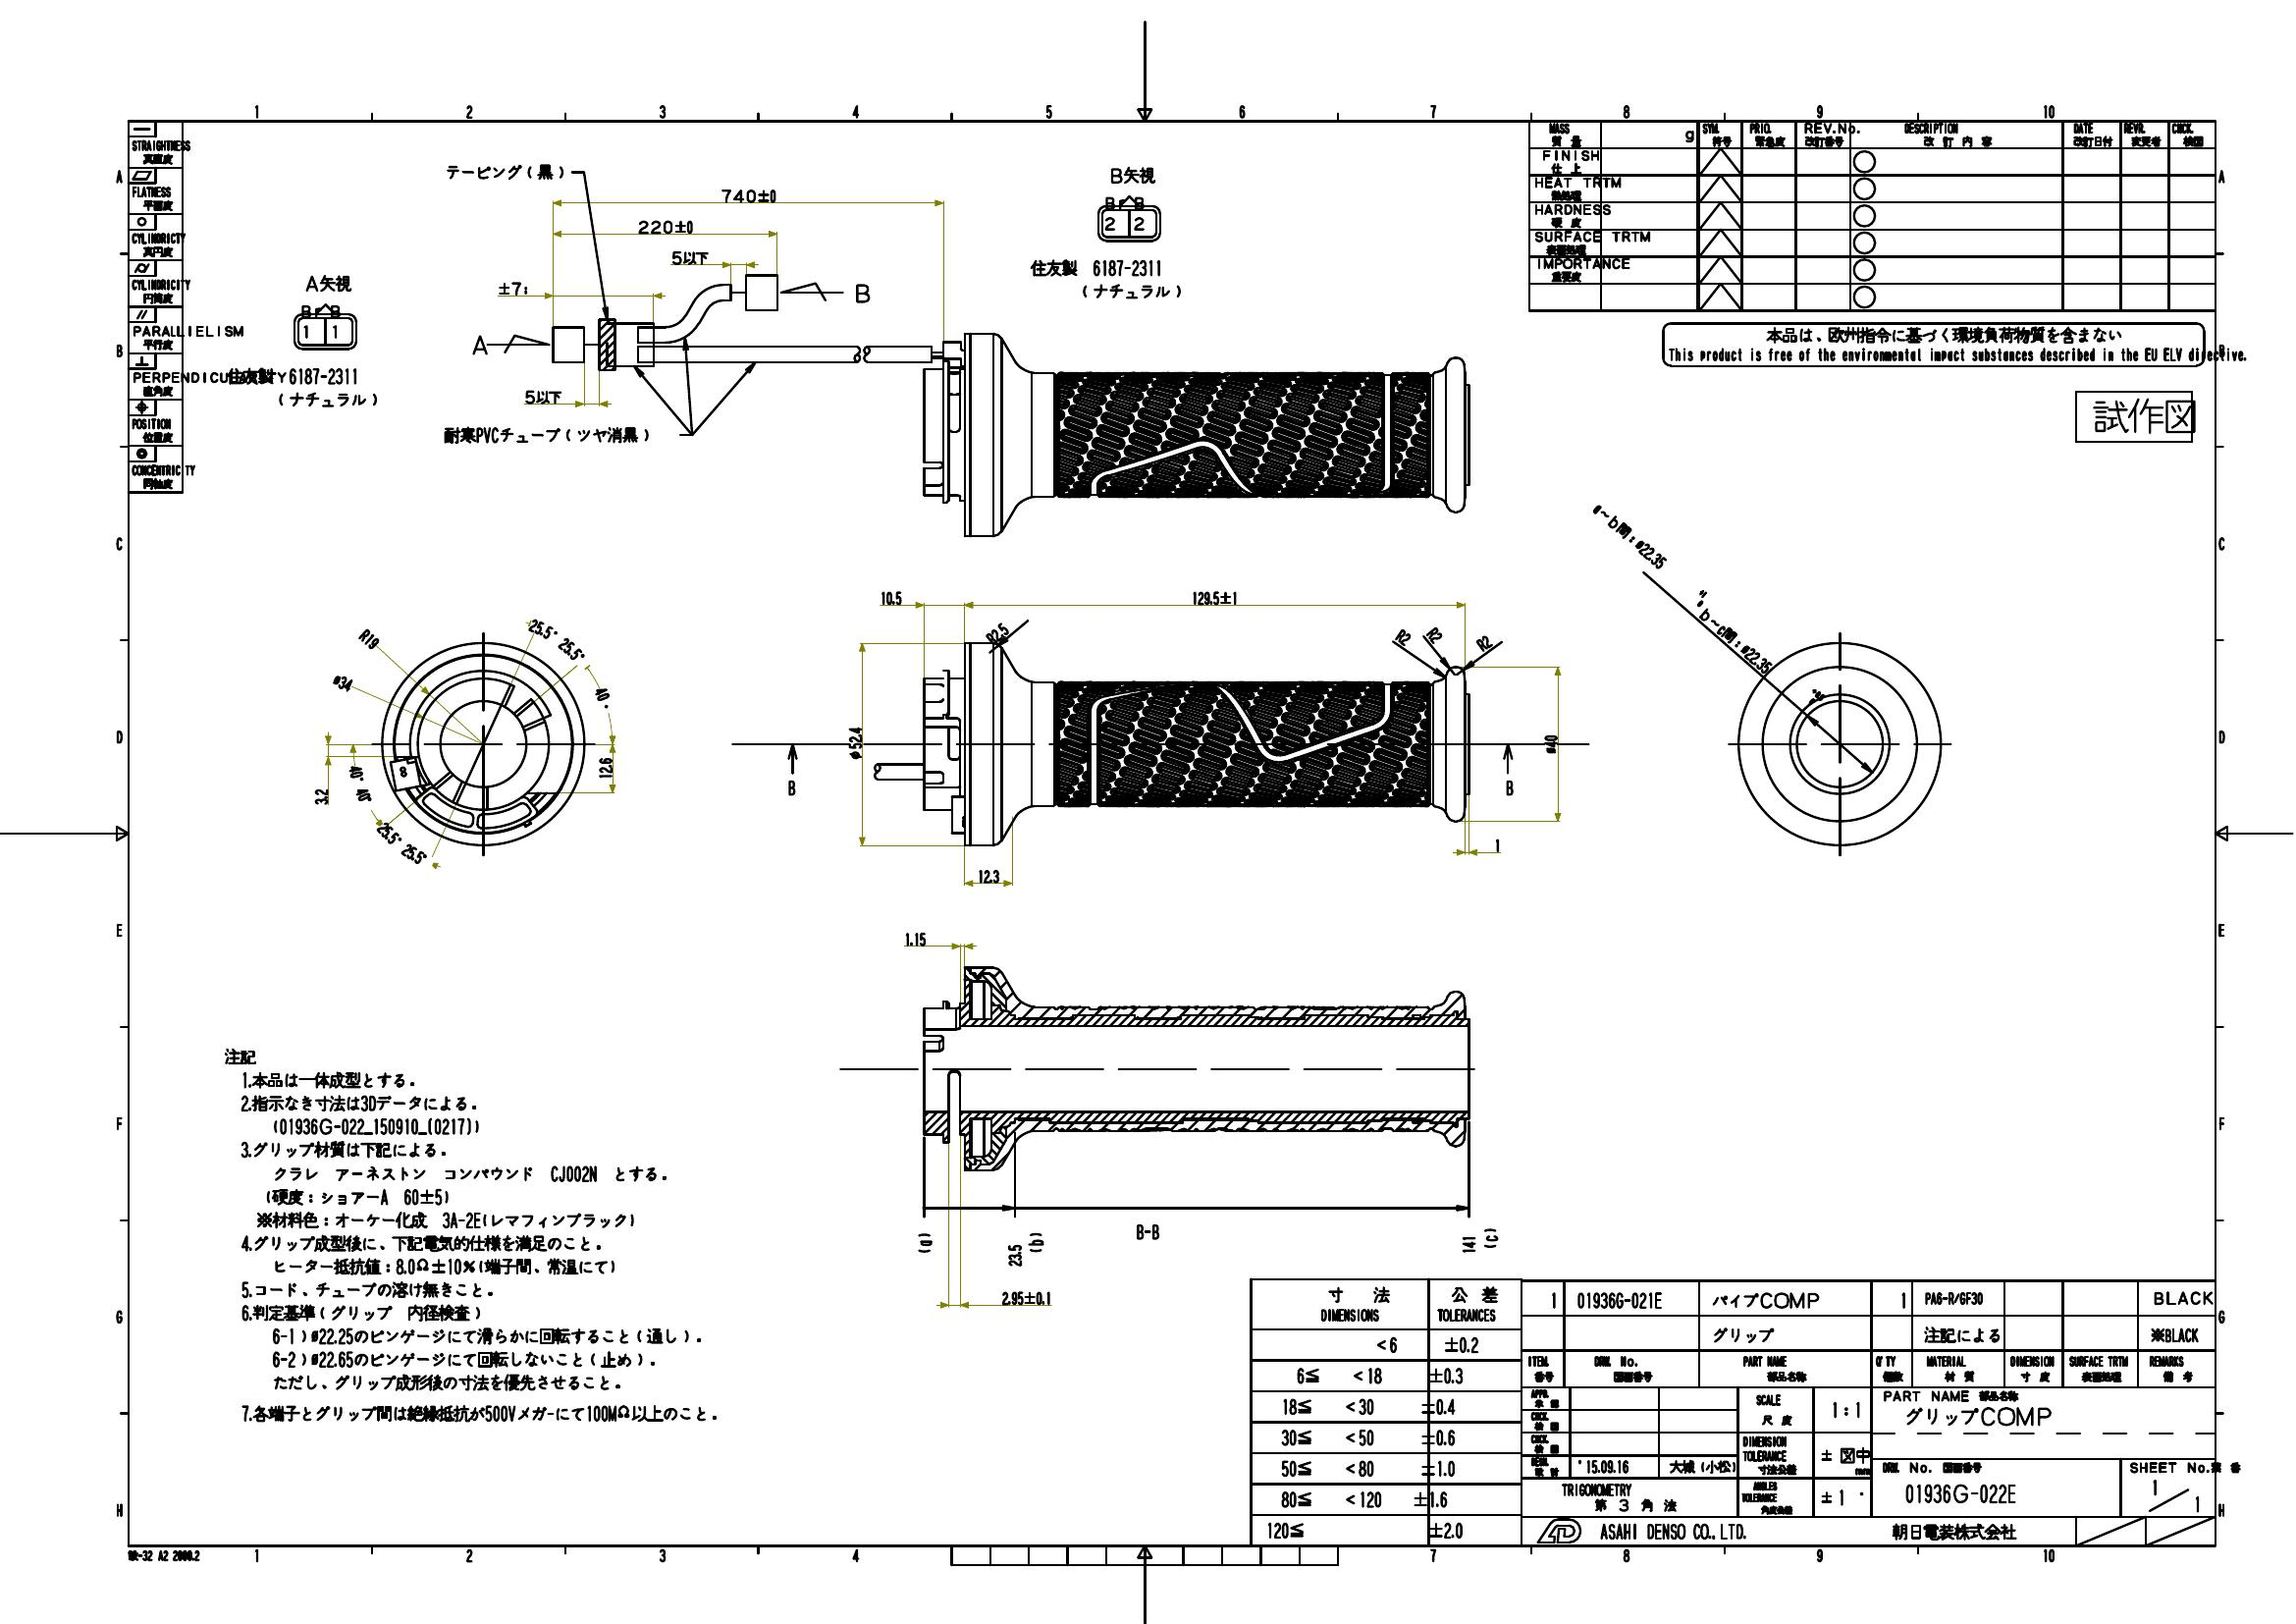anntotation_text: (221, 1046, 720, 1432), (1665, 323, 2203, 366), (1029, 253, 1184, 304), (2075, 388, 2194, 443), (225, 366, 383, 406), (439, 422, 655, 445), (441, 162, 569, 183), (126, 1547, 202, 1566), (302, 272, 355, 292), (1586, 513, 1643, 531), (1108, 165, 1159, 185), (1693, 620, 1744, 634), (1131, 1223, 1163, 1241), (1026, 1230, 1045, 1257), (469, 332, 490, 355), (854, 281, 873, 306), (912, 1229, 931, 1253), (1483, 1223, 1498, 1251), (785, 777, 803, 800), (1504, 777, 1516, 798), (1131, 213, 1144, 230), (1105, 214, 1117, 230), (300, 325, 311, 339), (330, 323, 339, 339)
dimension_text: (390, 814, 413, 875), (717, 186, 783, 202), (636, 216, 696, 234), (523, 633, 588, 649), (1000, 1290, 1052, 1306), (1189, 589, 1238, 605), (351, 763, 369, 807), (523, 387, 566, 404), (668, 248, 710, 265), (490, 279, 532, 295), (1632, 545, 1669, 562), (1737, 650, 1774, 668), (847, 724, 863, 761), (984, 624, 1010, 642), (1007, 1241, 1022, 1267), (597, 756, 613, 780), (905, 932, 929, 947), (1393, 626, 1412, 645), (1426, 624, 1446, 643), (975, 868, 1001, 882), (596, 685, 611, 708), (330, 675, 355, 689), (880, 591, 905, 605), (358, 631, 379, 647), (1542, 733, 1556, 756), (313, 787, 329, 807), (1458, 1234, 1474, 1253), (1476, 634, 1491, 650), (1491, 837, 1502, 851)
object: (553, 274, 1470, 536), (871, 642, 1470, 847), (924, 967, 1469, 1171), (381, 642, 587, 845), (1736, 640, 1939, 844), (293, 304, 357, 350)
title_block: (1251, 1280, 2215, 1547), (1530, 121, 2215, 309), (126, 120, 183, 492)
